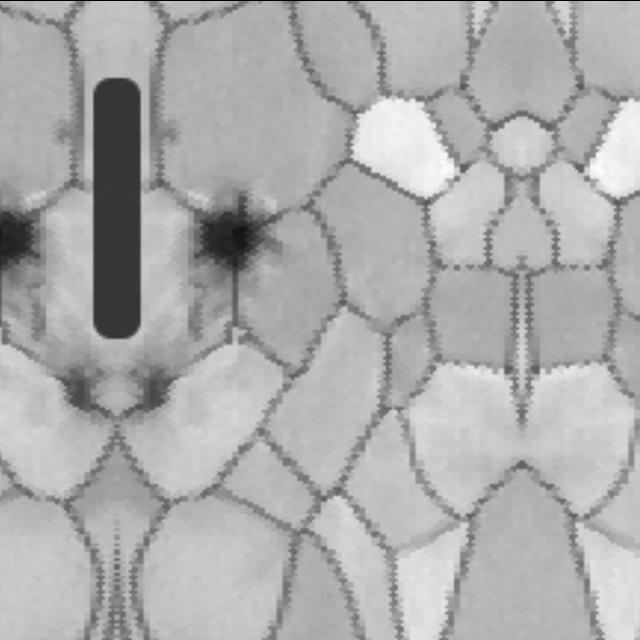good_void: (191, 196, 286, 282), (118, 358, 177, 420), (0, 202, 38, 275), (37, 98, 87, 152), (51, 357, 98, 414), (147, 98, 196, 152)
